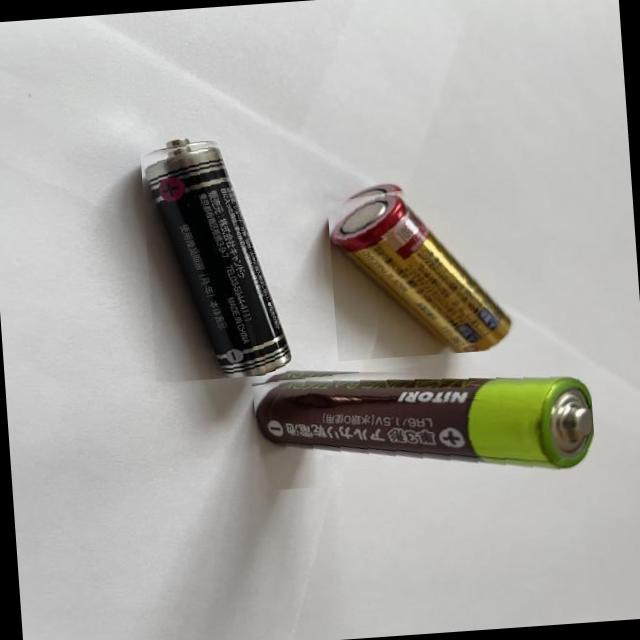Hazard: (249, 348, 595, 490), (137, 131, 290, 383), (324, 173, 514, 361)
